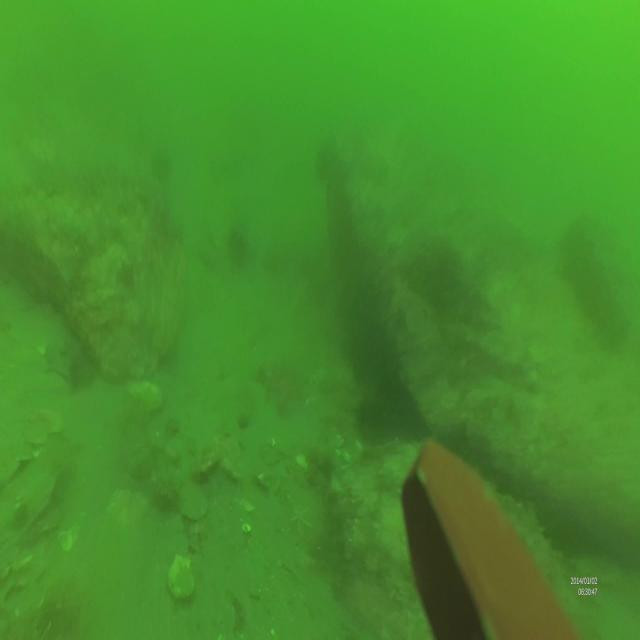scallop: (166, 556, 195, 601)
starfish: (291, 504, 312, 536)
